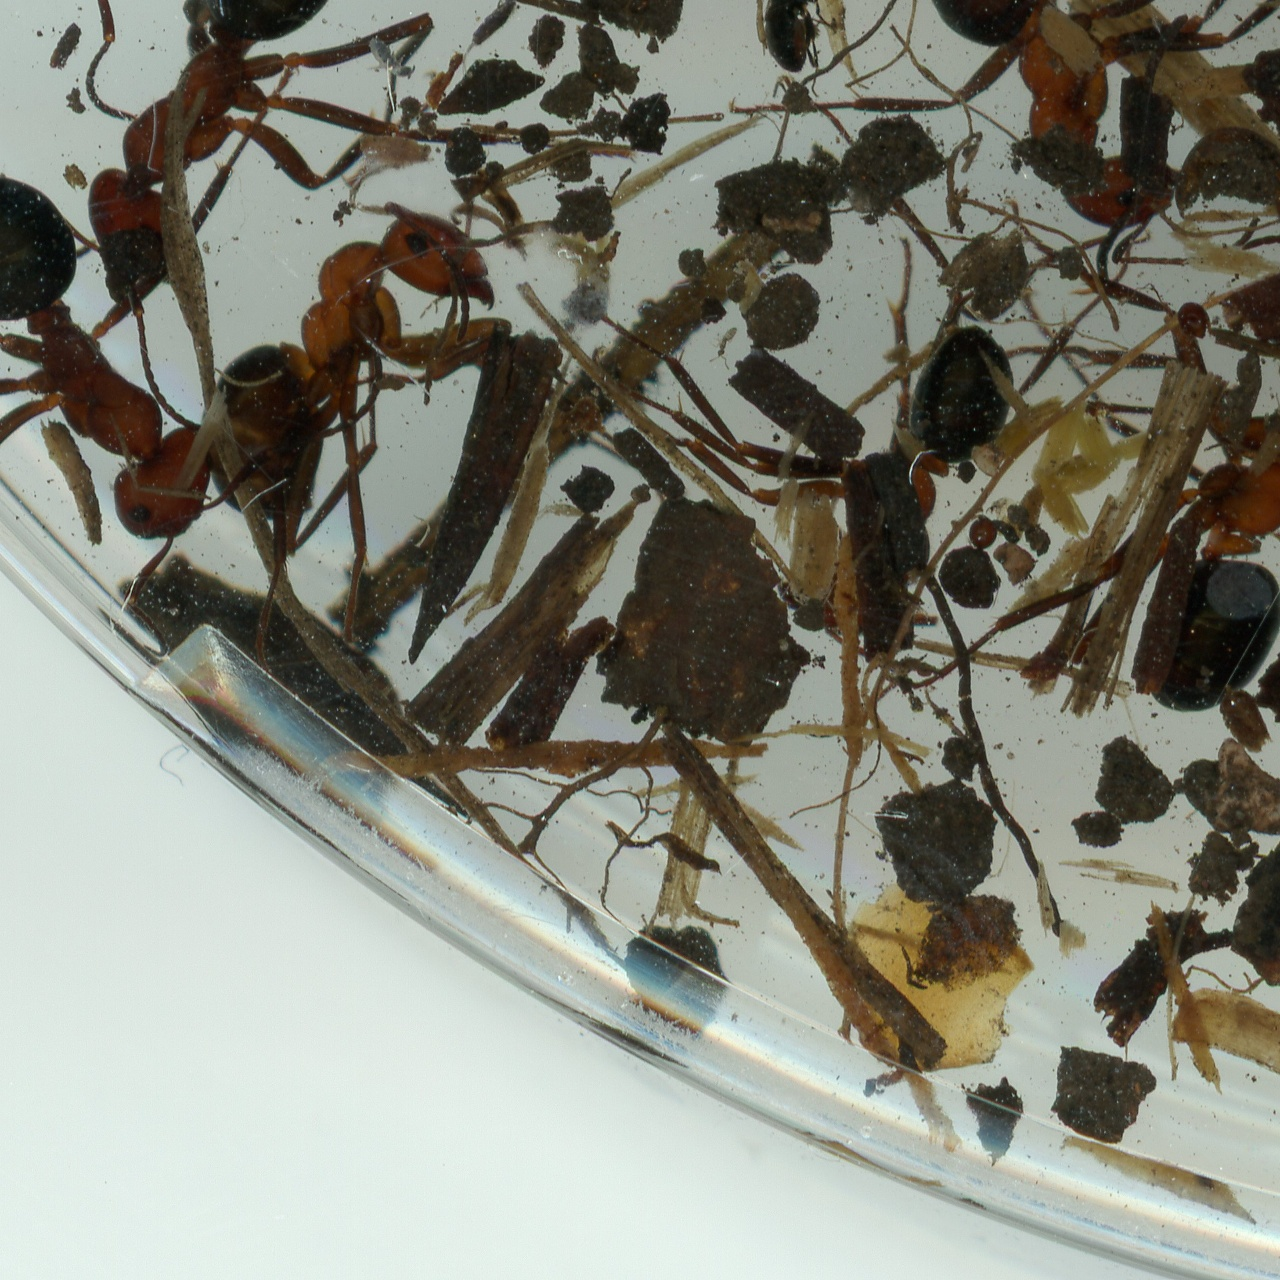arthropod: (4, 0, 482, 470), (0, 74, 267, 597), (207, 199, 516, 581), (578, 309, 1021, 553), (907, 0, 1280, 267), (0, 0, 561, 143), (1135, 259, 1280, 714), (756, 0, 832, 105), (457, 0, 520, 75), (366, 33, 420, 86), (708, 326, 741, 370)
